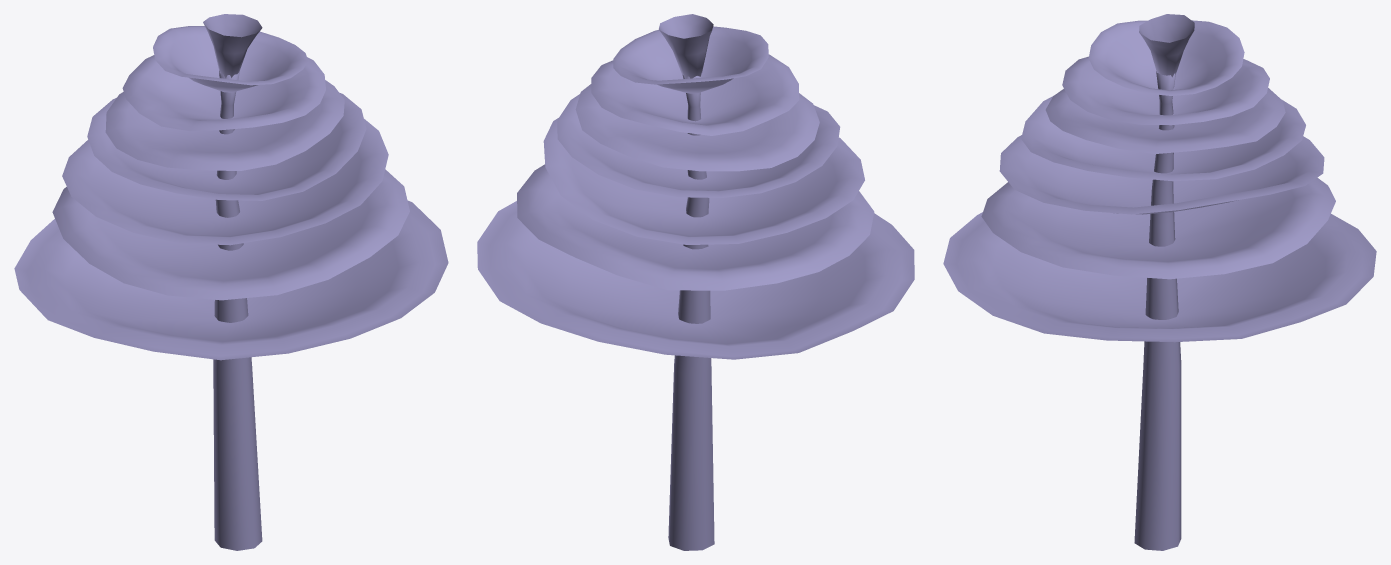
File: SM_ocean_christmas_treeWorm_04.fbx
3 views of the same model, side by side, from view 1: azimuth 30°, elevation 25°; view 2: azimuth 150°, elevation 25°; view 3: azimuth 270°, elevation 25° (orthographic).
Visible parts, largest first — view 1: SM_ocean_christmas_treeWorm_04_LOD0; view 2: SM_ocean_christmas_treeWorm_04_LOD0; view 3: SM_ocean_christmas_treeWorm_04_LOD0.
Part boxes in pixels (left/top/right/bottom): SM_ocean_christmas_treeWorm_04_LOD0: left=14, top=14, right=448, bottom=550; SM_ocean_christmas_treeWorm_04_LOD0: left=477, top=14, right=914, bottom=550; SM_ocean_christmas_treeWorm_04_LOD0: left=943, top=14, right=1376, bottom=550.
Size of what is drawn, in the model's own units: 14.87 by 14.76 by 19.35.
